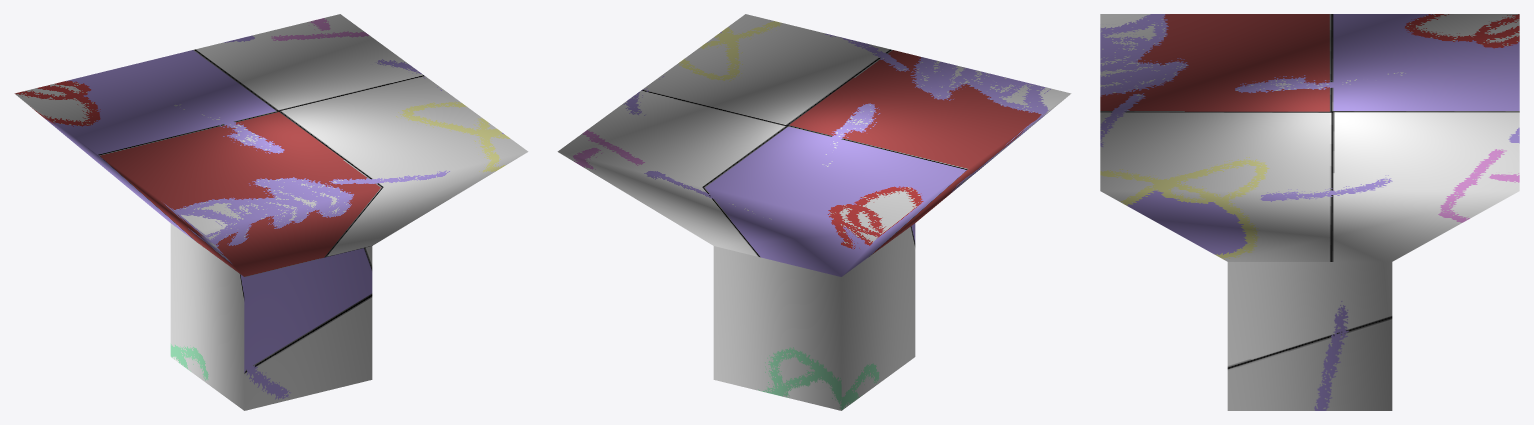
File: testmodel.fbx
The picture shows the model from 3 angles, left to right: view 1: azimuth 30°, elevation 25°; view 2: azimuth 150°, elevation 25°; view 3: azimuth 270°, elevation 25°; orthographic projection. The views are drawn at different scales.
Parts seen in each view (by area): view 1: Cube; view 2: Cube; view 3: Cube.
Boxes of the visible parts, x1,y1,x2,y2 form: Cube: (14,14,528,410); Cube: (557,14,1071,410); Cube: (1100,14,1519,410).
Bounding box in the file's own units: 510 × 367 × 510.
1 material, 1 textured.
